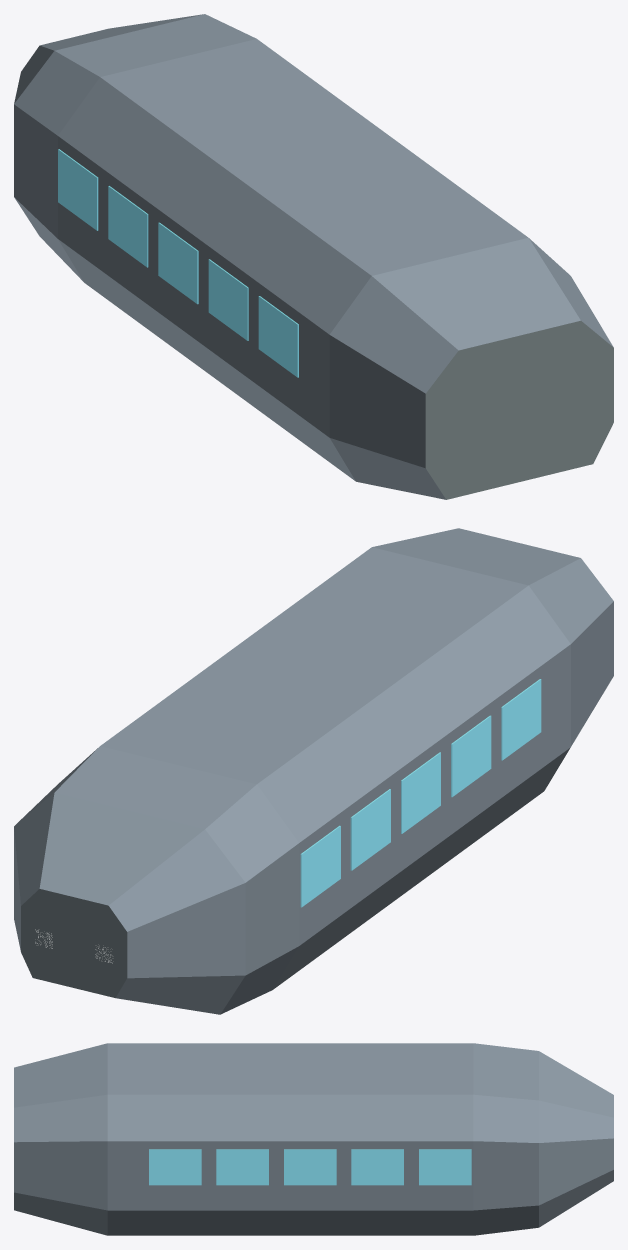
The model's file is mbta-train-capsule.glb.
The picture shows the model from 3 angles, top to bottom: view 1: azimuth 30°, elevation 25°; view 2: azimuth 150°, elevation 25°; view 3: azimuth 270°, elevation 25°; orthographic projection. The views are drawn at different scales.
Parts seen in each view (by area): view 1: Pearl enamel, Tintable car glazing; view 2: Pearl enamel, Tintable car glazing; view 3: Pearl enamel, Tintable car glazing.
Boxes of the visible parts, x1=… form: Pearl enamel: x1=14, y1=14, x2=613, y2=499; Tintable car glazing: x1=58, y1=149, x2=298, y2=377; Pearl enamel: x1=14, y1=528, x2=613, y2=1014; Tintable car glazing: x1=300, y1=679, x2=541, y2=907; Pearl enamel: x1=14, y1=1043, x2=613, y2=1235; Tintable car glazing: x1=149, y1=1149, x2=471, y2=1185.
Size of the model in its own units: 0.0101 by 0.008 by 0.032.
